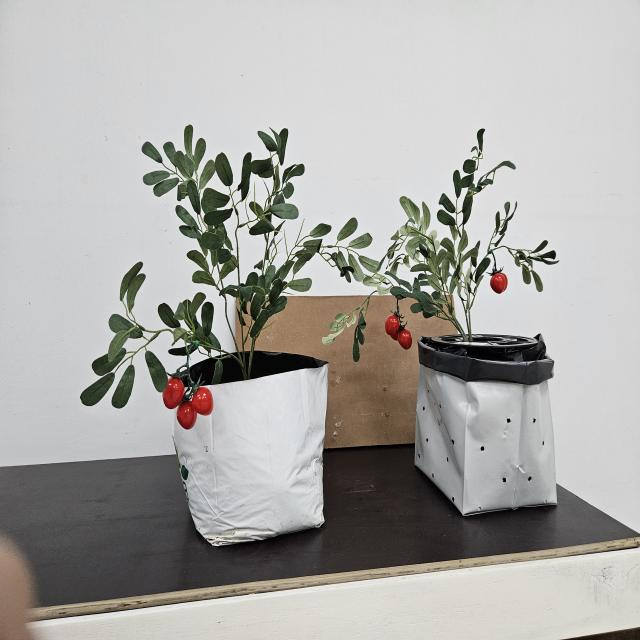Soilbag: (162, 352, 330, 548), (413, 336, 558, 519)
Tomato: (162, 362, 214, 431), (384, 313, 416, 352), (487, 267, 510, 296)
plant: (79, 125, 381, 431), (336, 129, 559, 363)
